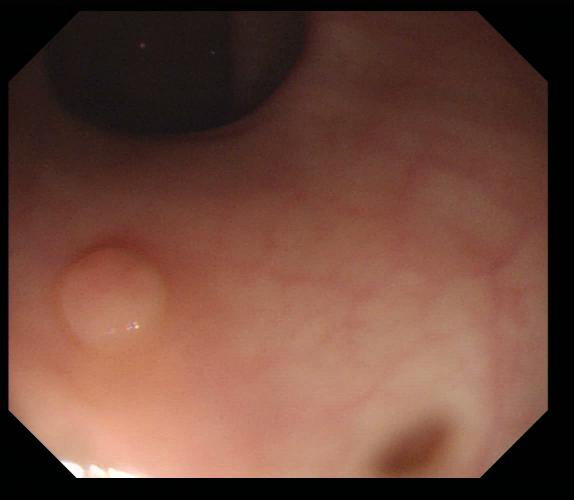polyp: (51, 244, 172, 353)
